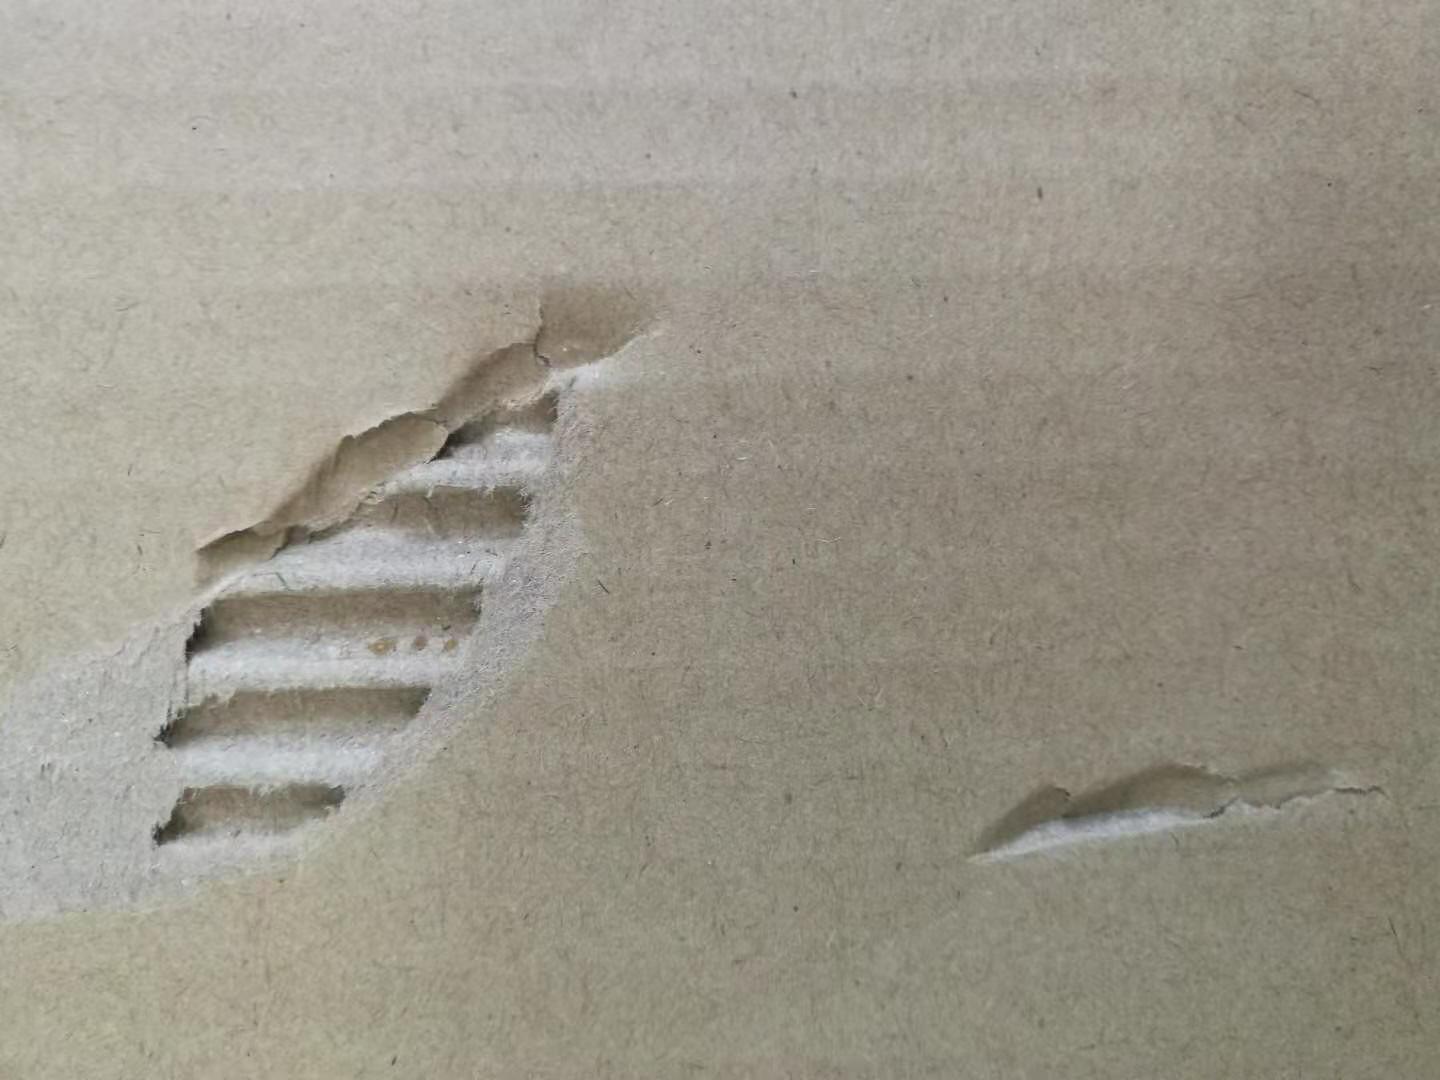defect: (1, 233, 731, 967), (927, 718, 1440, 891)
